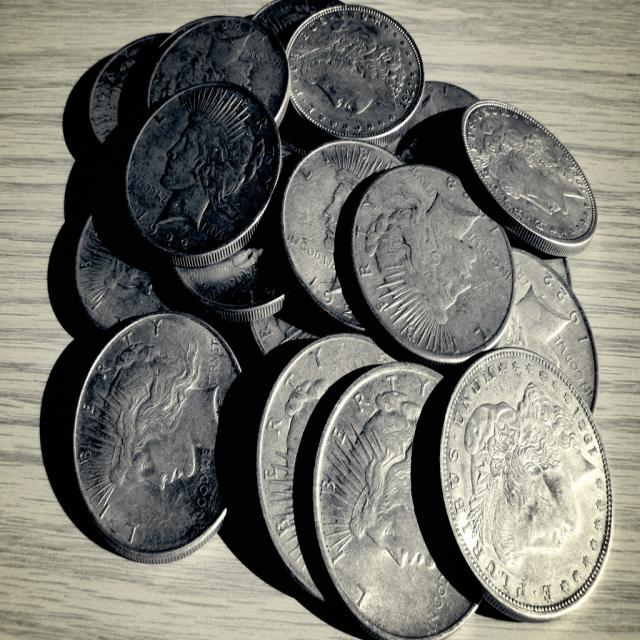Coin: (70, 0, 613, 639)
